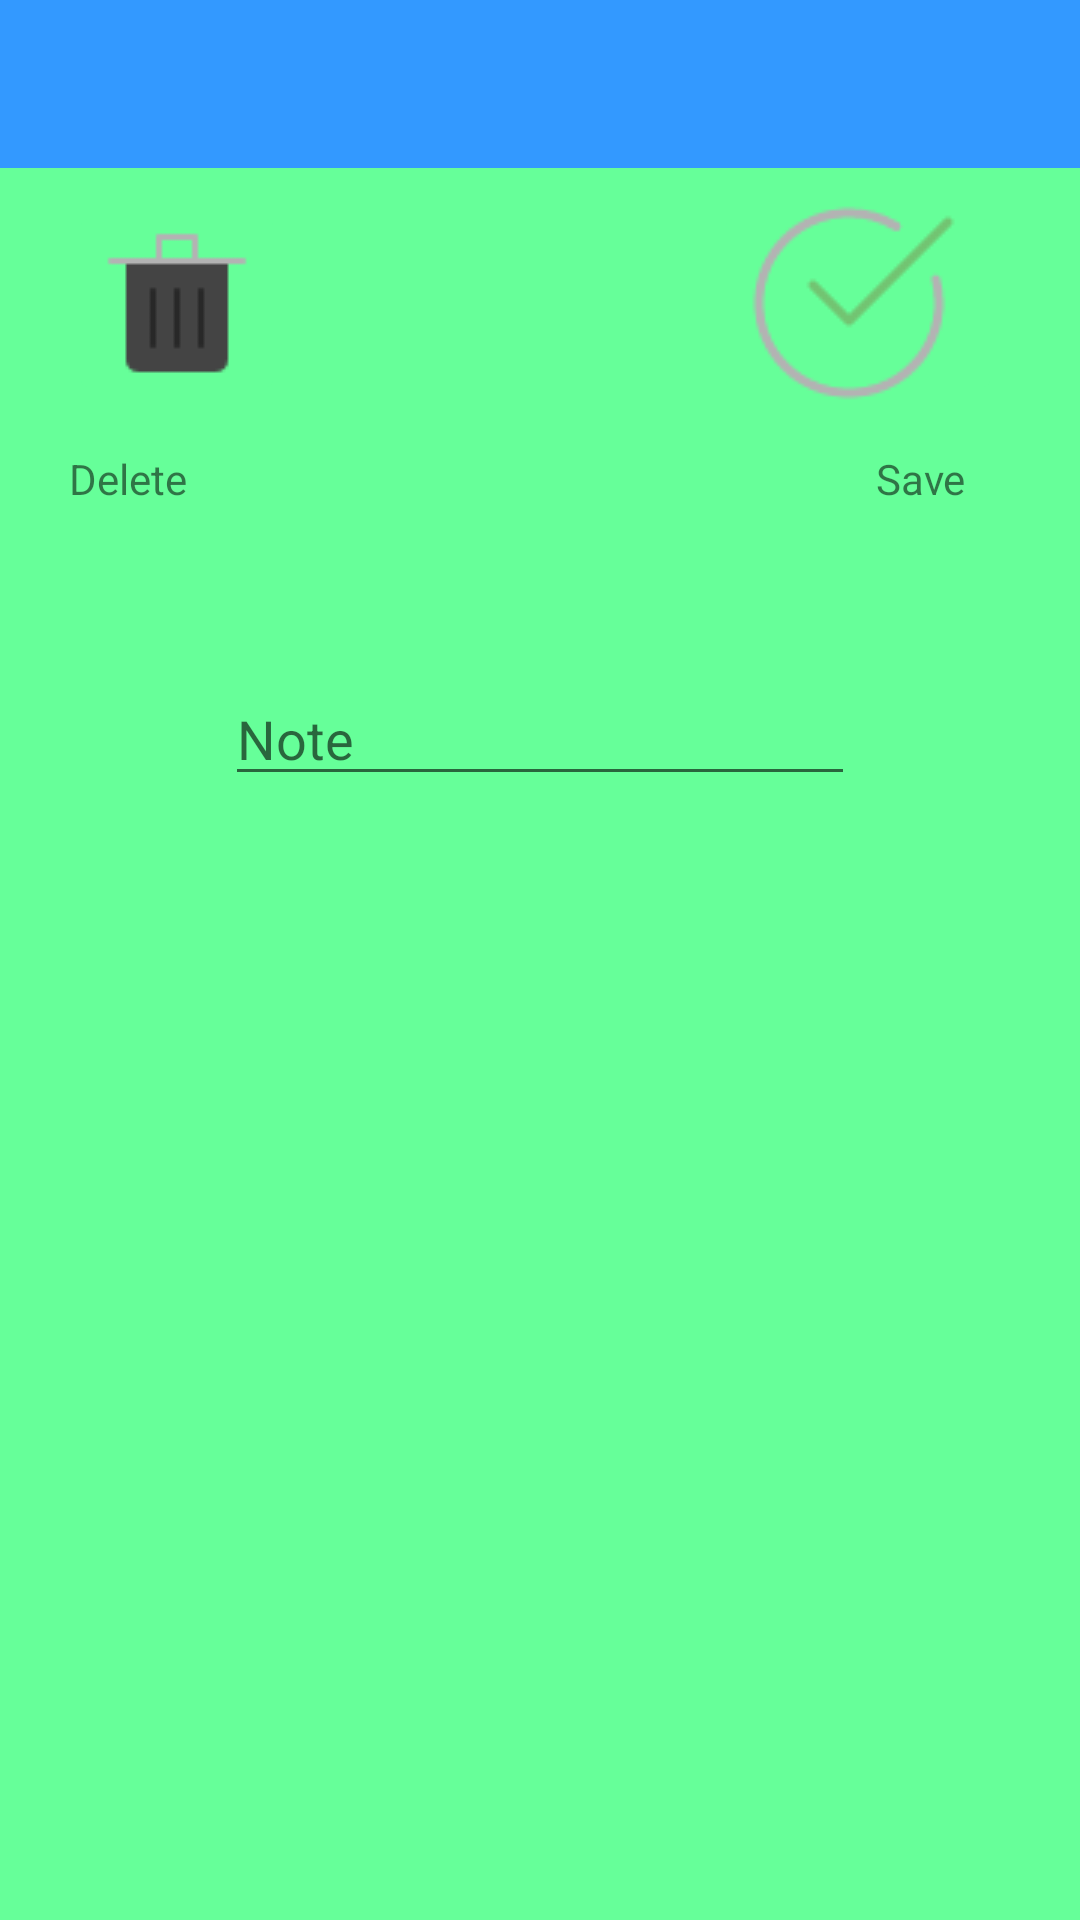

Icons on this 1080 x 1920 Android screen, each with the point to tap as (x=x, y=y):
check circle: (x=852, y=303)
trash: (x=177, y=303)
